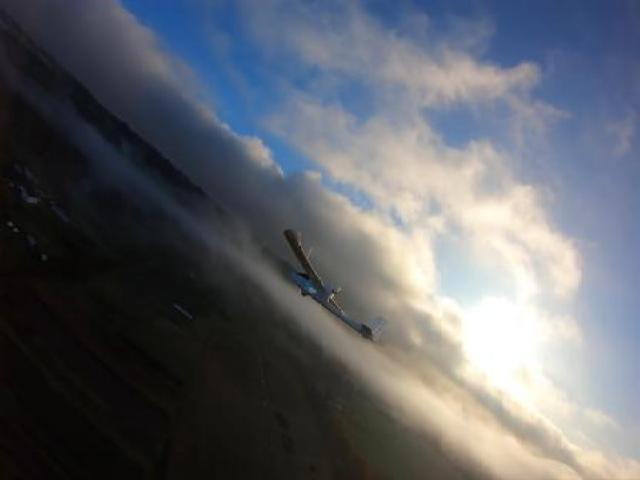uav: (275, 220, 390, 354)
